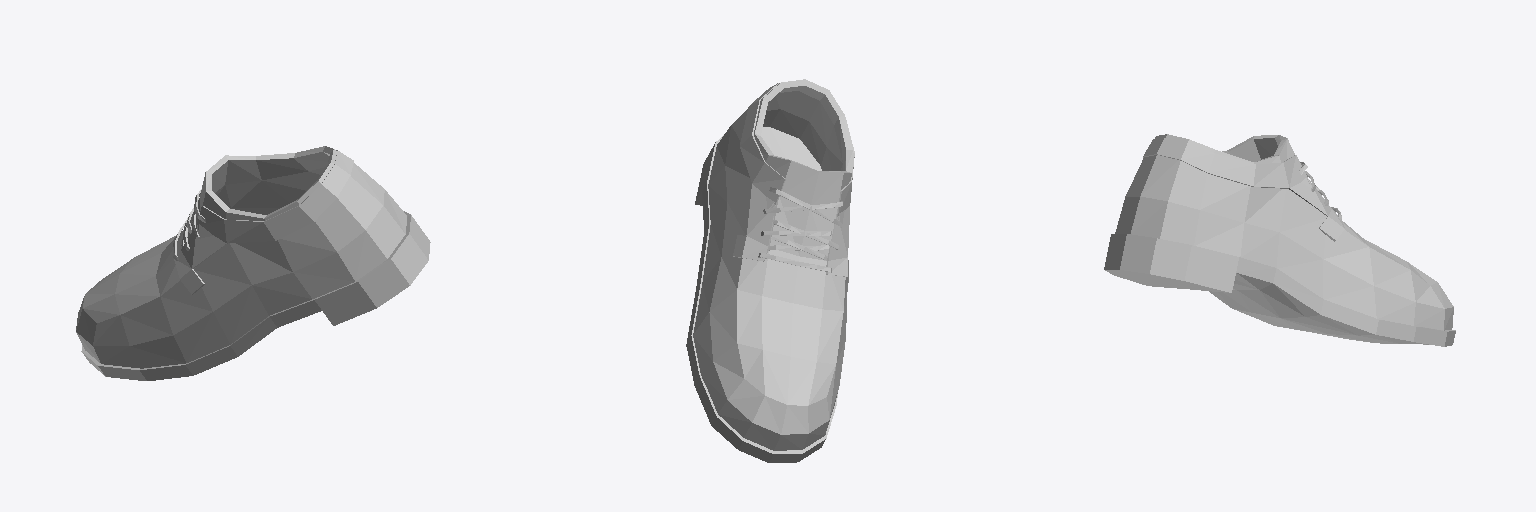
3 renders of one model, left to right at view 1: azimuth 30°, elevation 25°; view 2: azimuth 150°, elevation 25°; view 3: azimuth 270°, elevation 25°, orthographic.
Visible parts, largest first — view 1: shoes.010; view 2: shoes.010; view 3: shoes.010.
Part boxes in pixels (x1,y1,x2,y2): shoes.010: (76,146,430,380); shoes.010: (686,79,854,462); shoes.010: (1104,134,1455,346).
Bounding box in the file's own units: 0.5189 × 0.5848 × 0.7043.